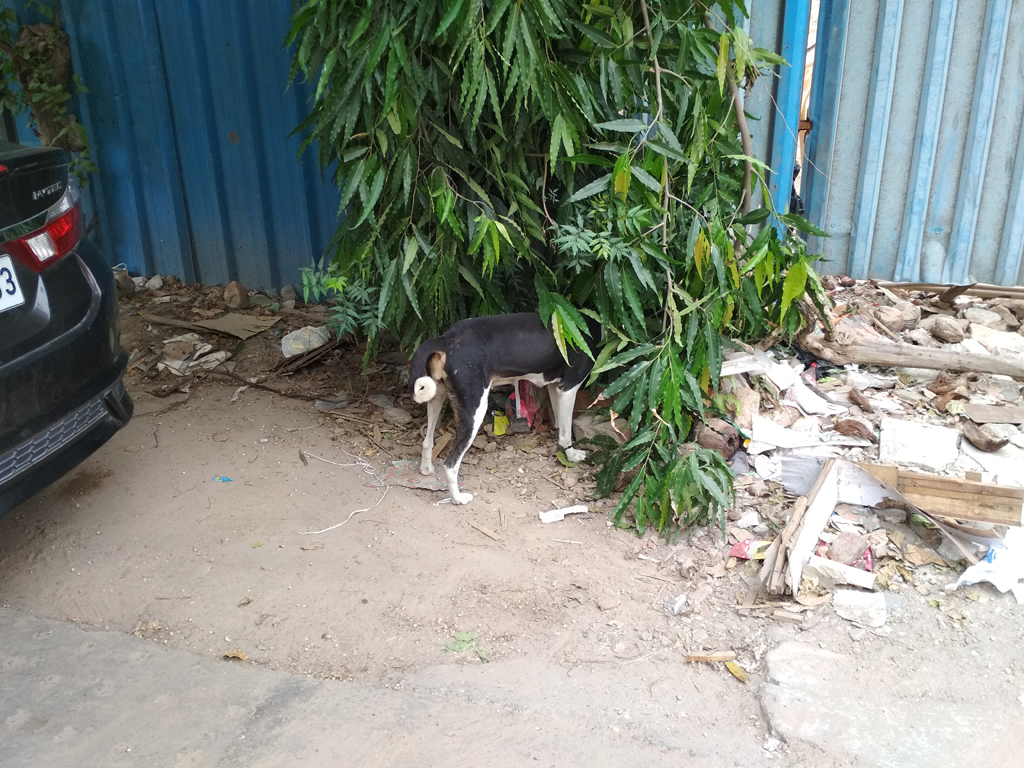dog: (408, 312, 607, 505)
